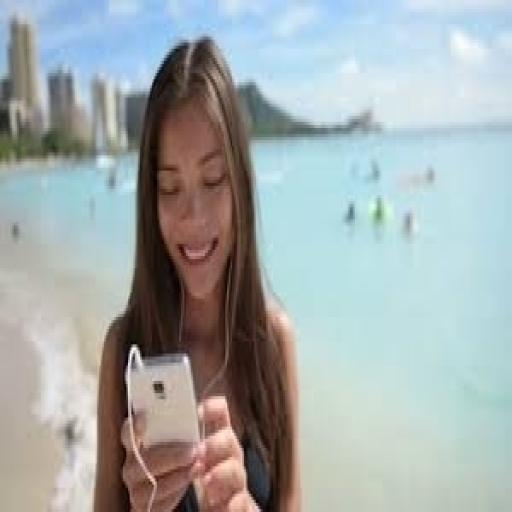texting: (90, 33, 304, 509)
